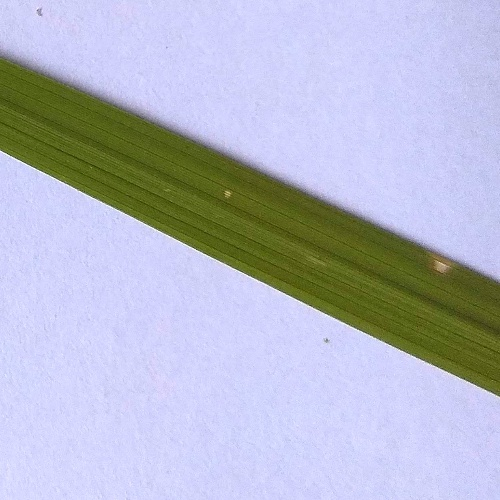Busuk Leher: (425, 248, 461, 288), (221, 188, 238, 206)
